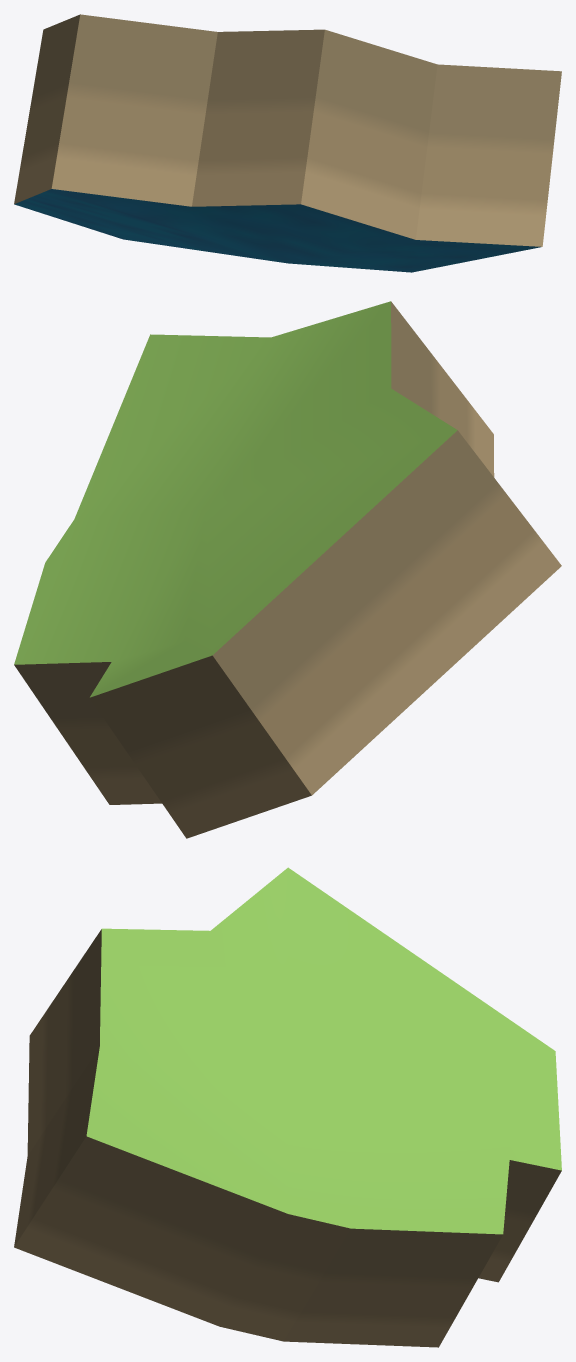
The model's file is 065c_Botswana.glb.
3 renders of one model, top to bottom at view 1: azimuth 30°, elevation 25°; view 2: azimuth 150°, elevation 25°; view 3: azimuth 270°, elevation 25°, orthographic. The views are drawn at different scales.
Visible parts, largest first — view 1: part_0; view 2: part_0; view 3: part_0.
Part boxes in pixels (x1,y1,x2,y2): part_0: (14, 14, 561, 272); part_0: (14, 301, 561, 838); part_0: (14, 867, 561, 1347).
Size of the model in its own units: 0.5765 by 0.4533 by 0.6045.
Materials: 1 (1 with a texture image).
